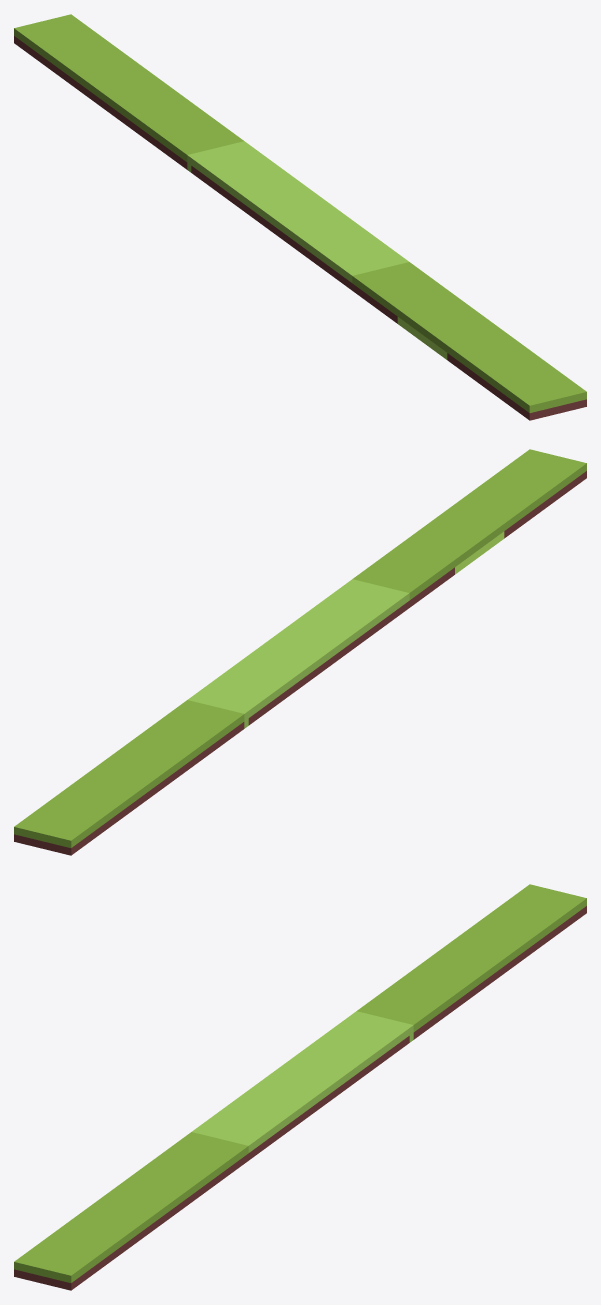
File: grass-f.obj
3 renders of one model, top to bottom at view 1: azimuth 30°, elevation 25°; view 2: azimuth 150°, elevation 25°; view 3: azimuth 330°, elevation 25°, orthographic.
Bounding box in the file's own units: 8 × 2 × 125.
Materials: 1 (1 with a texture image).
